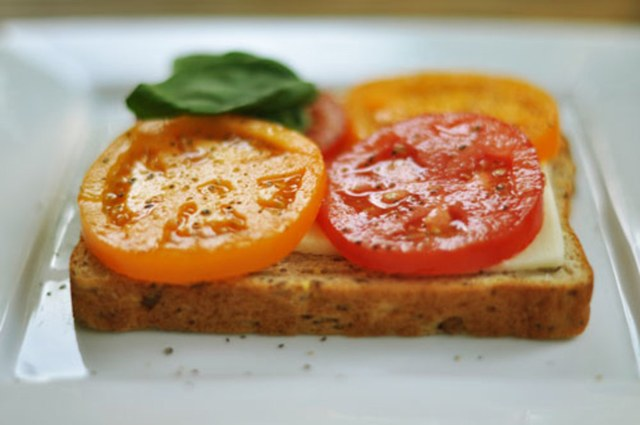tomato: (77, 113, 326, 285), (325, 113, 545, 274), (346, 73, 559, 163)
